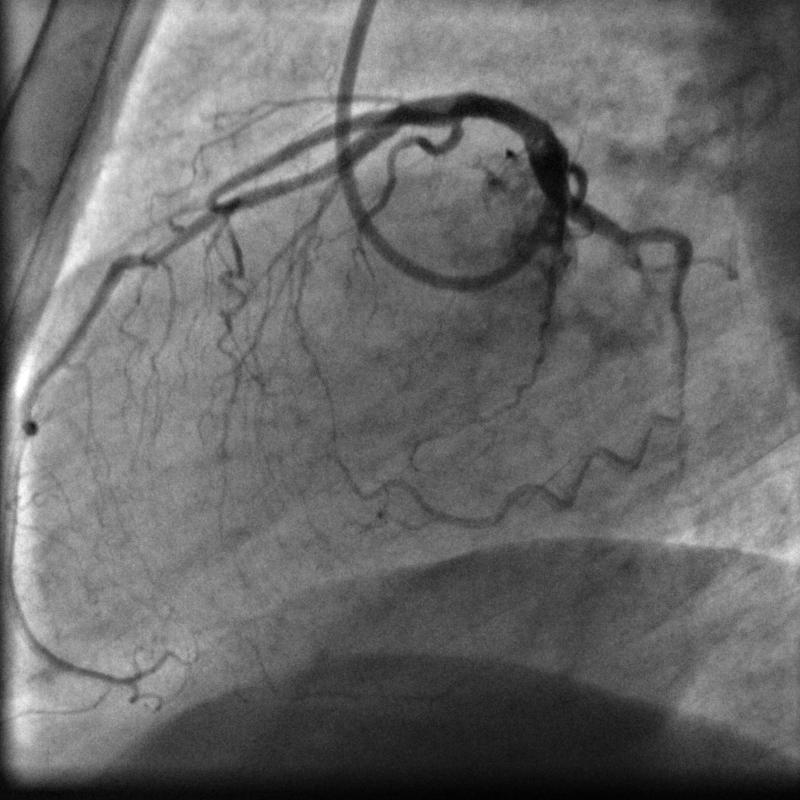Stenosis: (427, 93, 475, 135)
